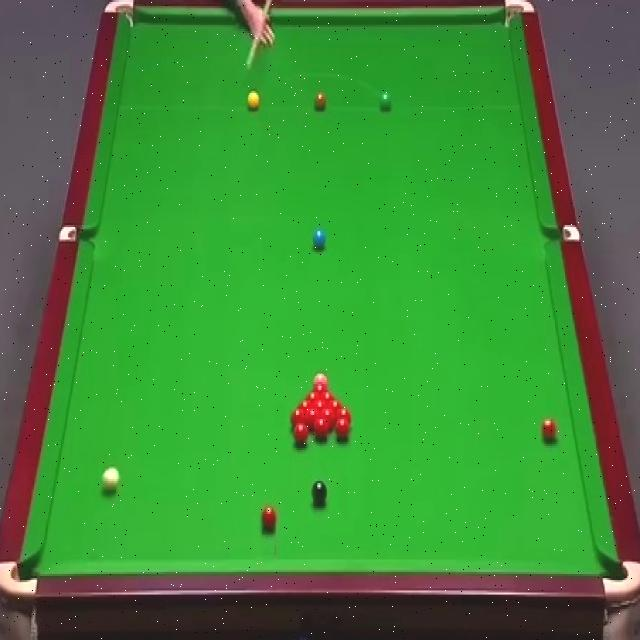black-ball: (311, 480, 328, 508)
blue-ball: (311, 228, 327, 251)
brown-ball: (314, 90, 326, 111)
green-ball: (378, 90, 392, 111)
pink-ball: (313, 371, 329, 386)
red-ball: (260, 504, 278, 532), (540, 419, 558, 442), (334, 418, 352, 440), (293, 422, 308, 444), (313, 417, 328, 439), (290, 407, 307, 424), (321, 409, 335, 429), (306, 408, 320, 427), (336, 409, 352, 425), (312, 400, 329, 410), (297, 399, 313, 409), (328, 400, 344, 410), (321, 391, 336, 401), (312, 383, 328, 391), (306, 391, 320, 400)
white-ball: (101, 466, 120, 494)
yellow-ball: (247, 91, 260, 111)
